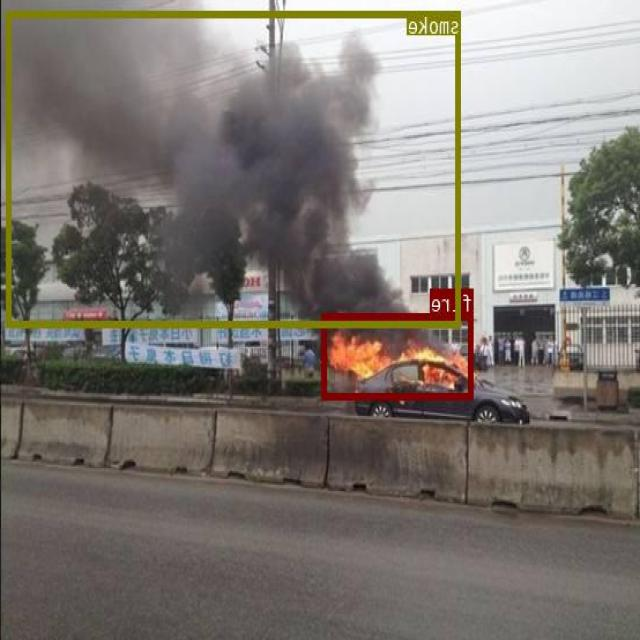fire: (323, 312, 474, 398)
smoke: (7, 11, 462, 327)
